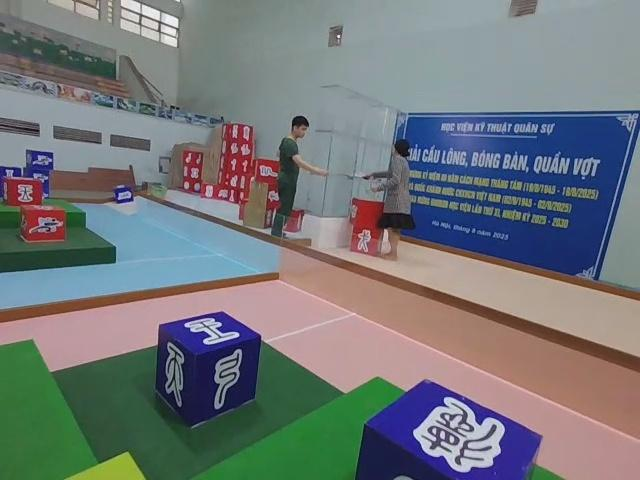R2 Fake Blue: (361, 381, 545, 480), (155, 313, 262, 431)
